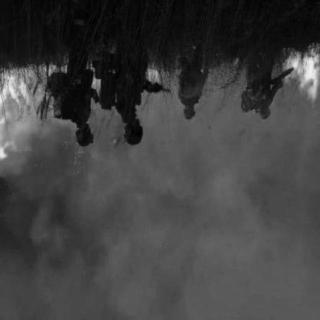Fire: (1, 65, 58, 163), (280, 42, 319, 108), (144, 67, 163, 87)
Smoke: (9, 126, 227, 317)
